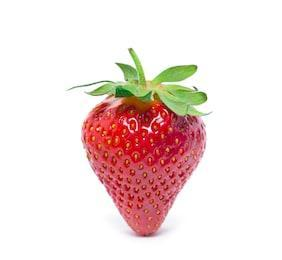Fresa: (76, 77, 213, 240)
